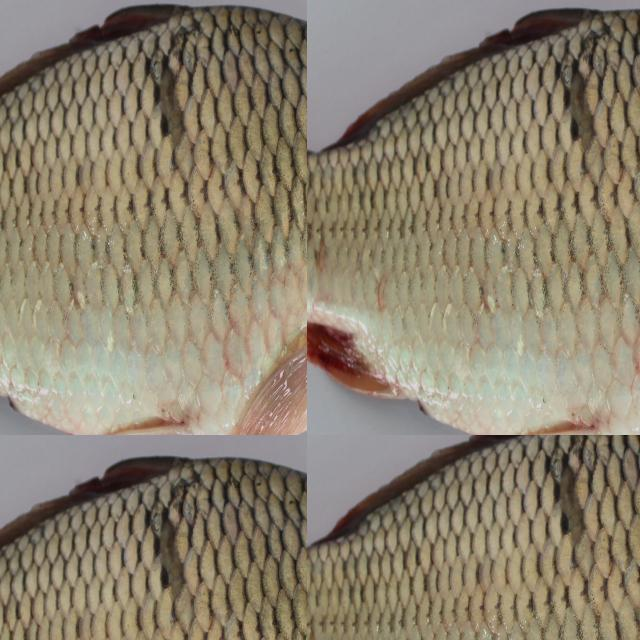fish: (307, 0, 640, 435), (307, 435, 640, 640), (0, 451, 307, 640)
